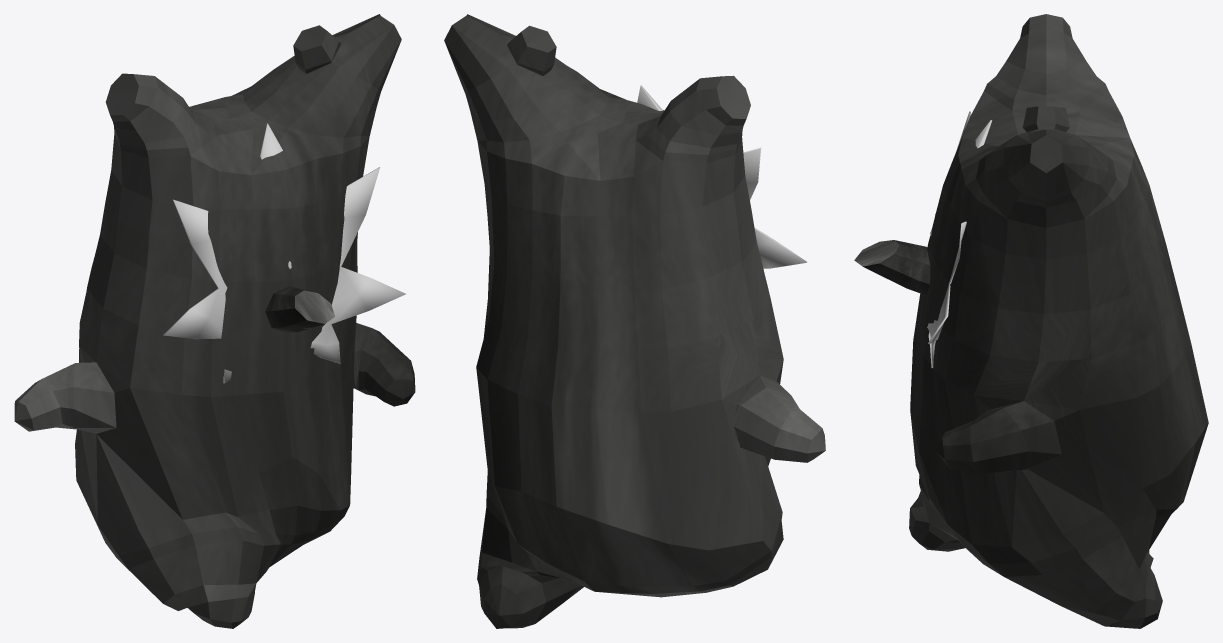
The model's file is frame_0011.obj.
The picture shows the model from 3 angles, left to right: view 1: azimuth 30°, elevation 25°; view 2: azimuth 150°, elevation 25°; view 3: azimuth 270°, elevation 25°; orthographic projection. The views are drawn at different scales.
Visible parts, largest first — view 1: korok, leaf, nose; view 2: korok, leaf; view 3: korok, nose, leaf.
Part boxes in pixels (x1,y1,x2,y2): korok: (14, 14, 415, 628); leaf: (163, 123, 405, 383); nose: (265, 286, 334, 332); korok: (444, 14, 825, 628); leaf: (637, 85, 806, 268); korok: (909, 14, 1208, 628); nose: (854, 240, 930, 295); leaf: (927, 111, 992, 368).
Size of the model in its own units: 1.63 by 2.23 by 1.34.
